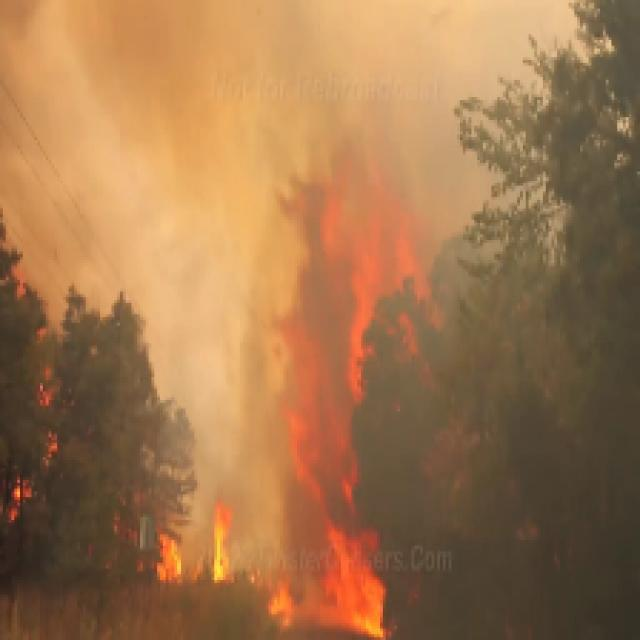Fire: (0, 237, 640, 640)
Smoke: (3, 5, 640, 228), (0, 0, 274, 460), (246, 143, 471, 640)
